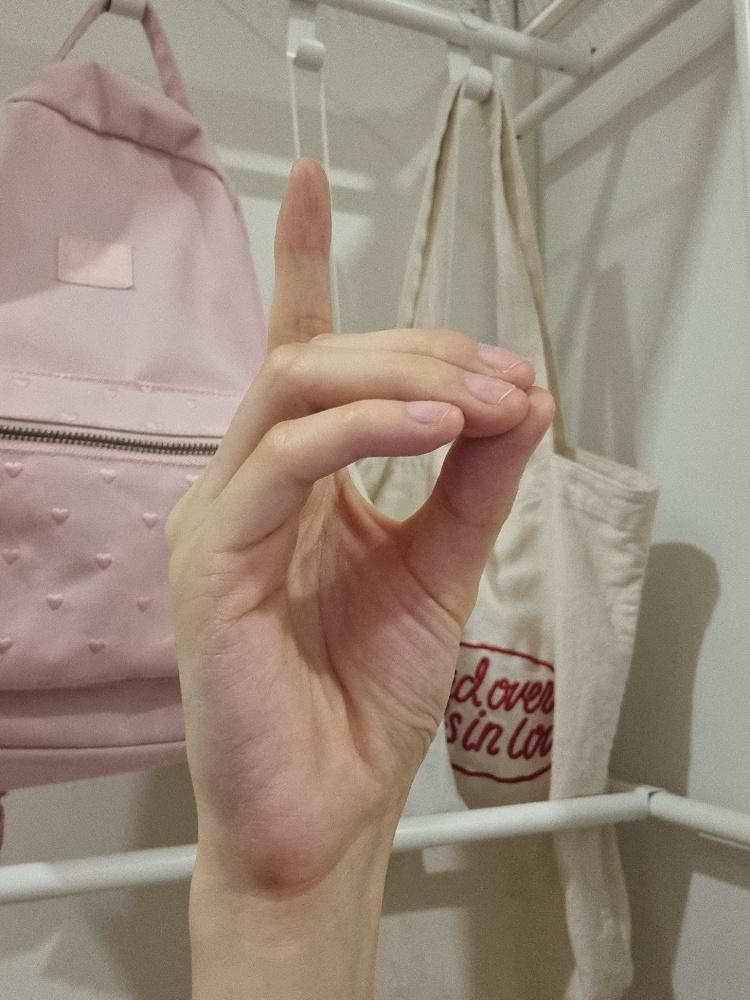d: (162, 155, 559, 904)
